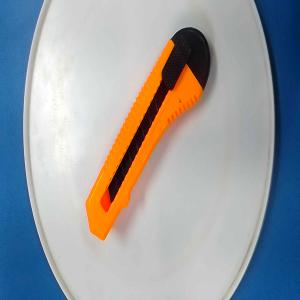estilete: (85, 27, 211, 241)
